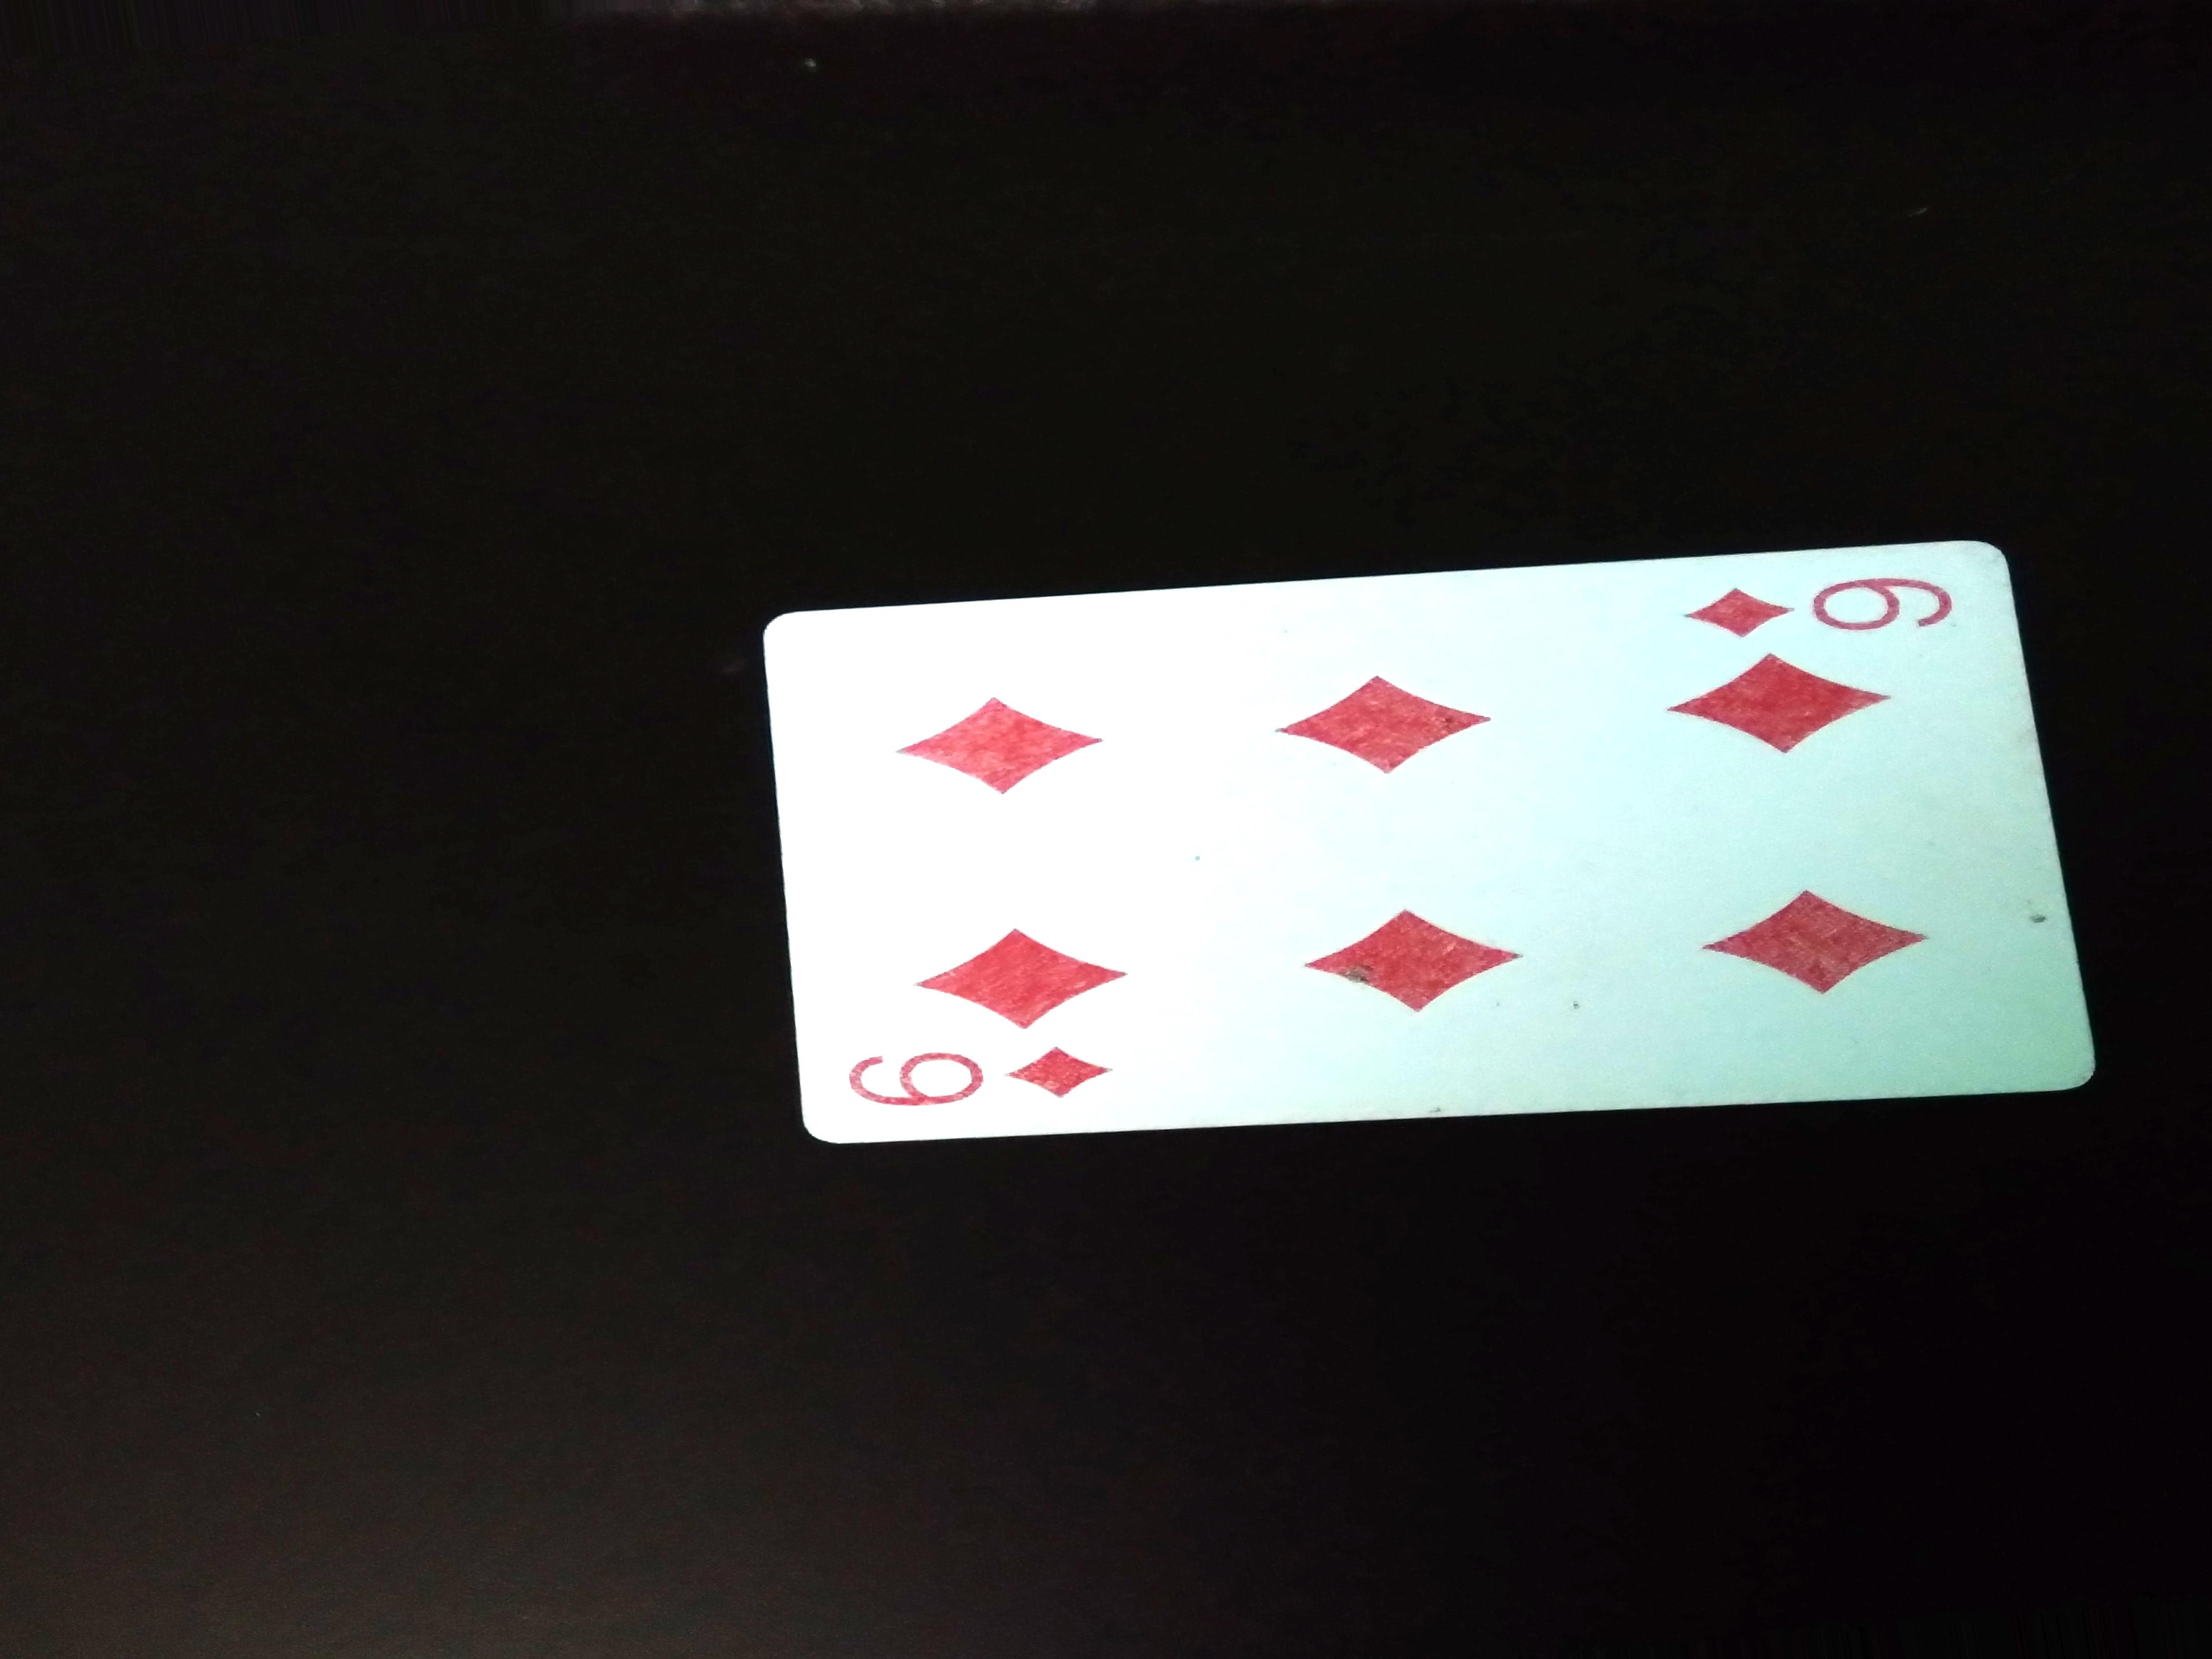6D: (838, 1026, 1122, 1127)
